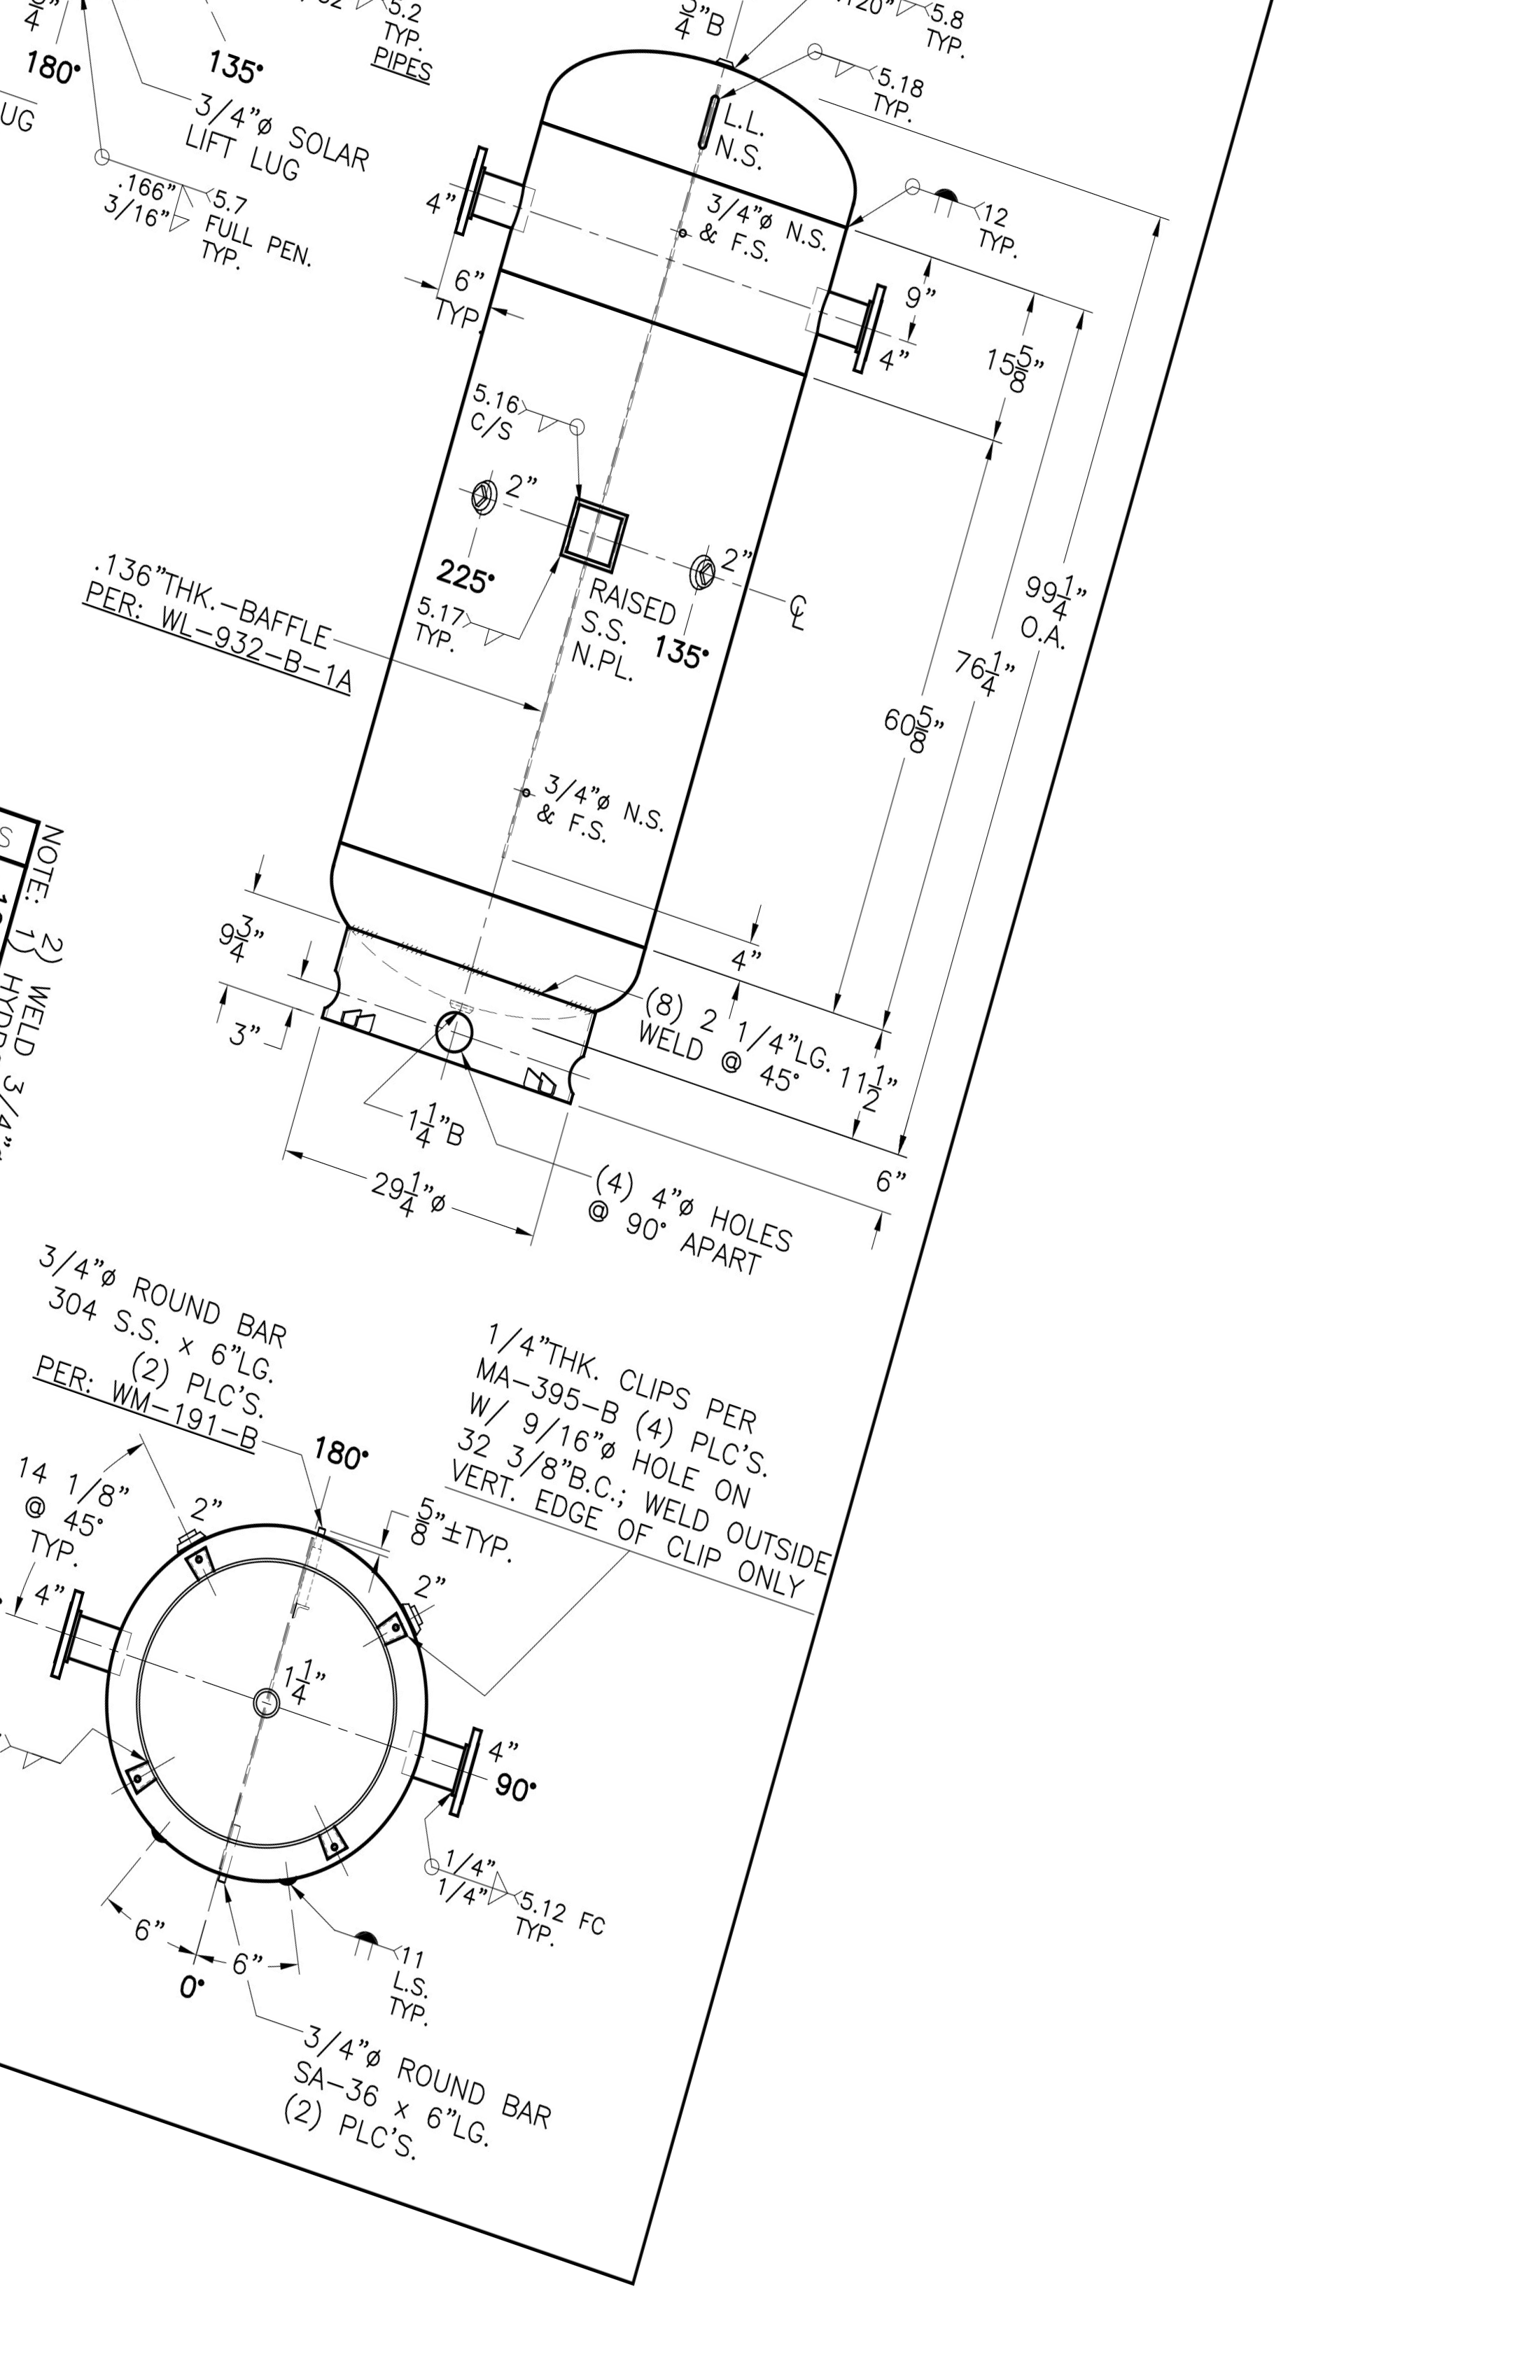Nozzle: (434, 116, 577, 284), (822, 239, 950, 413), (394, 1671, 510, 1835), (24, 1566, 146, 1698)
